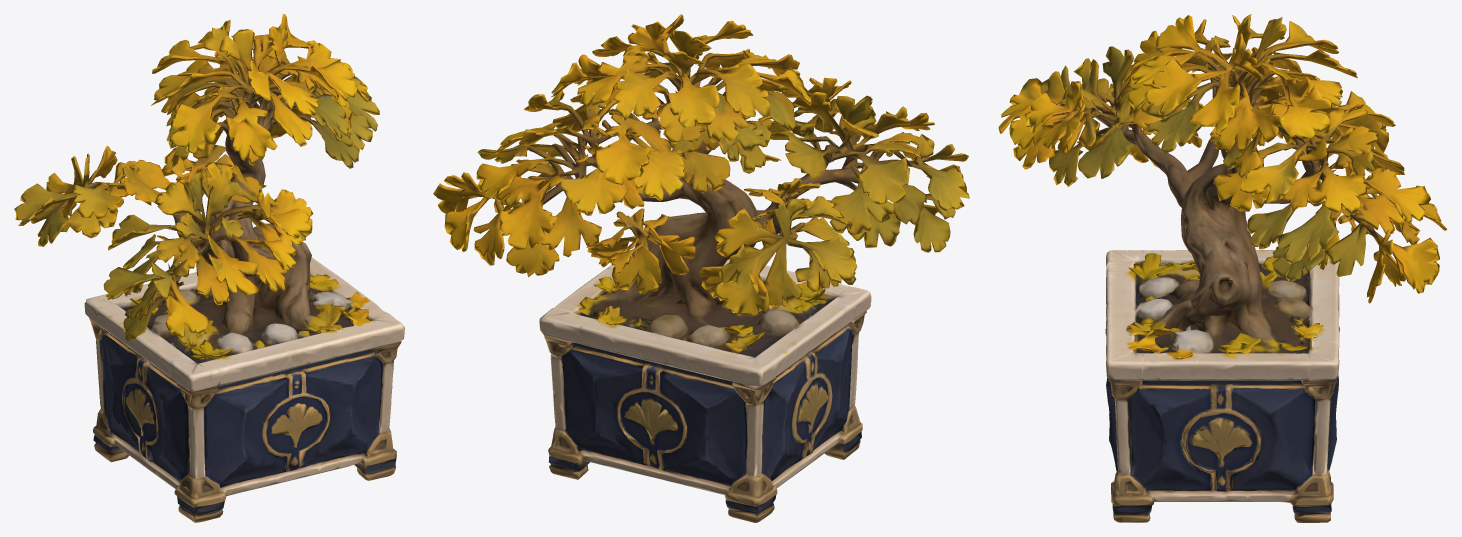
Rendered from academy-ginkgo.glb.
3 views of the same model, side by side, from view 1: azimuth 30°, elevation 25°; view 2: azimuth 150°, elevation 25°; view 3: azimuth 270°, elevation 25° (orthographic). The views are drawn at different scales.
Visible parts, largest first — view 1: tripo_node_0778b98a-81df-49f9-8941-0b2e126f1889; view 2: tripo_node_0778b98a-81df-49f9-8941-0b2e126f1889; view 3: tripo_node_0778b98a-81df-49f9-8941-0b2e126f1889.
Part boxes in pixels (x1,y1,x2,y2): tripo_node_0778b98a-81df-49f9-8941-0b2e126f1889: (14,14,404,522); tripo_node_0778b98a-81df-49f9-8941-0b2e126f1889: (433,14,969,522); tripo_node_0778b98a-81df-49f9-8941-0b2e126f1889: (998,14,1447,522).
Size of the model in its own units: 0.929 by 0.9765 by 0.8692.
1 material, 1 textured.
